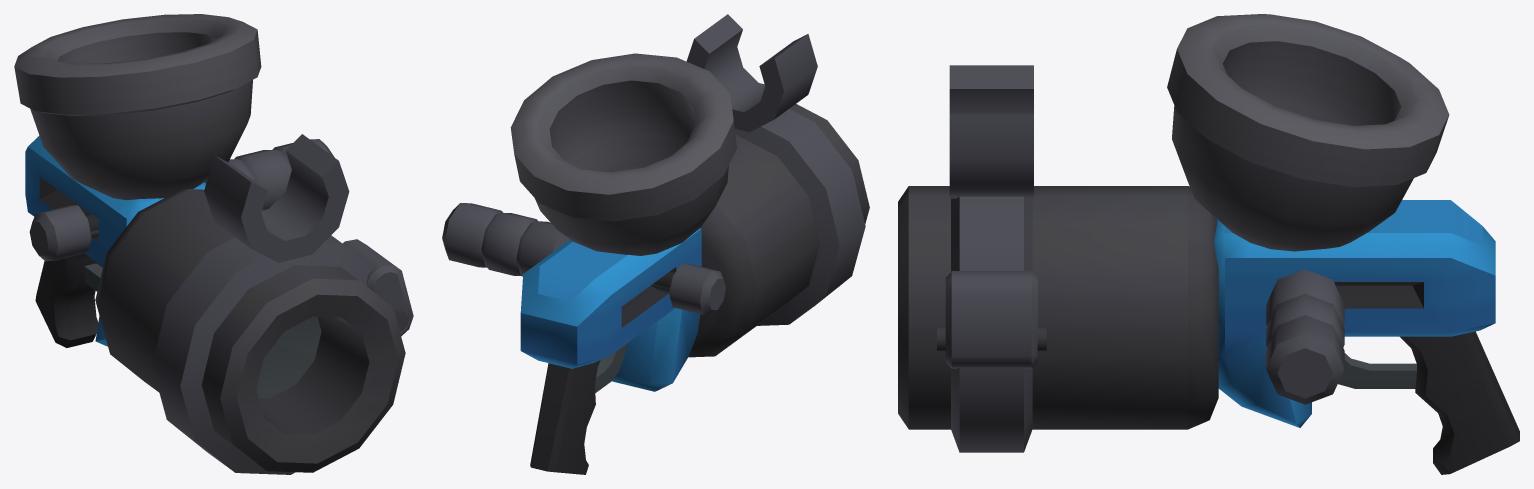
File: kk_holiday_bombarde_canon.glb
The picture shows the model from 3 angles, left to right: view 1: azimuth 30°, elevation 25°; view 2: azimuth 150°, elevation 25°; view 3: azimuth 270°, elevation 25°; orthographic projection. The views are drawn at different scales.
Parts seen in each view (by area): view 1: snowball_cannon; view 2: snowball_cannon; view 3: snowball_cannon.
Part boxes in pixels (<box>): snowball_cannon: <box>14,14,413,474</box>; snowball_cannon: <box>442,14,869,474</box>; snowball_cannon: <box>898,14,1519,474</box>.
Bounding box in the file's own units: 0.6016 × 0.714 × 0.9509.
1 material, 1 textured.
